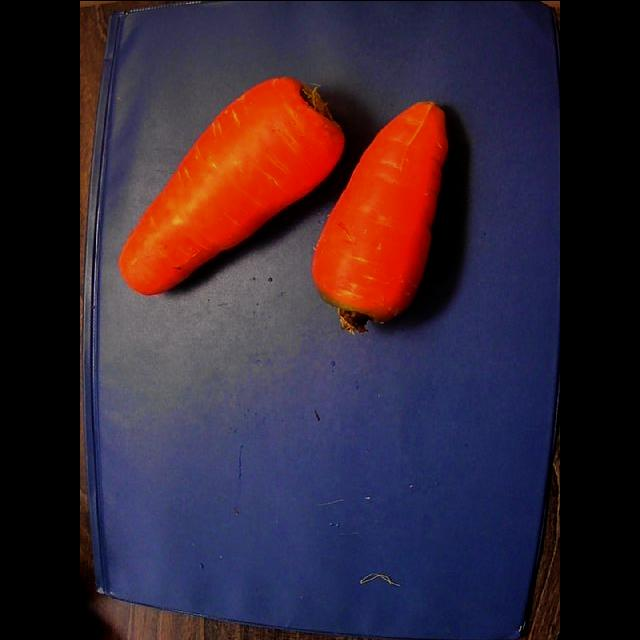zanahoria: (119, 76, 344, 293), (312, 100, 448, 332)
